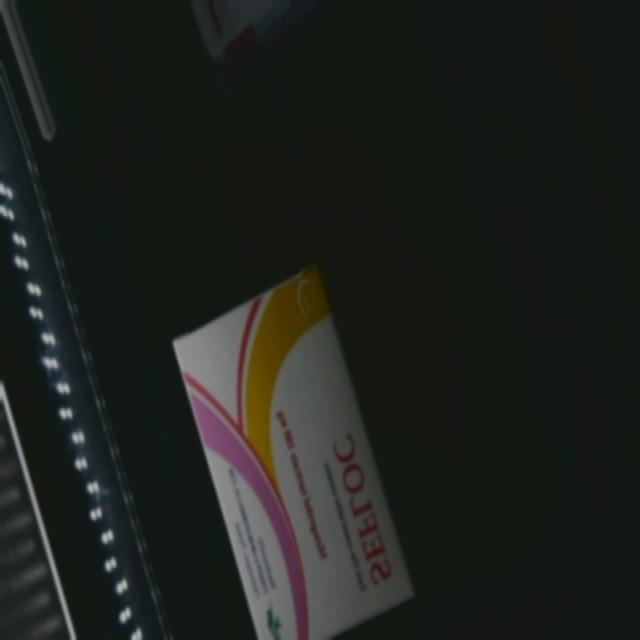medicine_name_detection: (172, 263, 414, 633)
